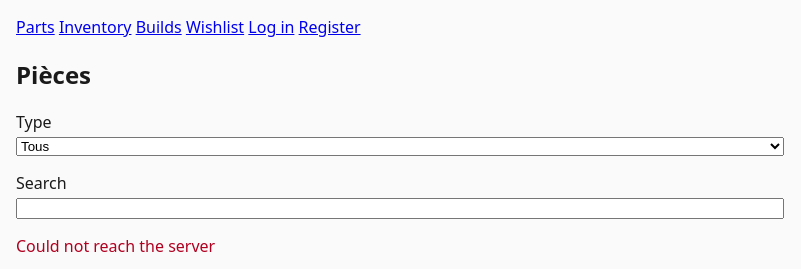
Test: App routes › the Builds link shows its page
Click the link "Builds" at (159,27), box [136, 16, 182, 38]
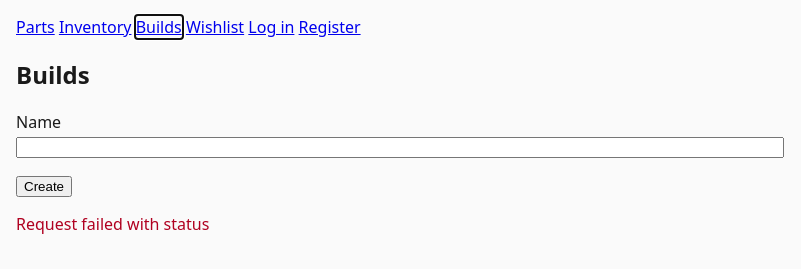
Now the heading "Builds" is shown, box [16, 58, 90, 91]
